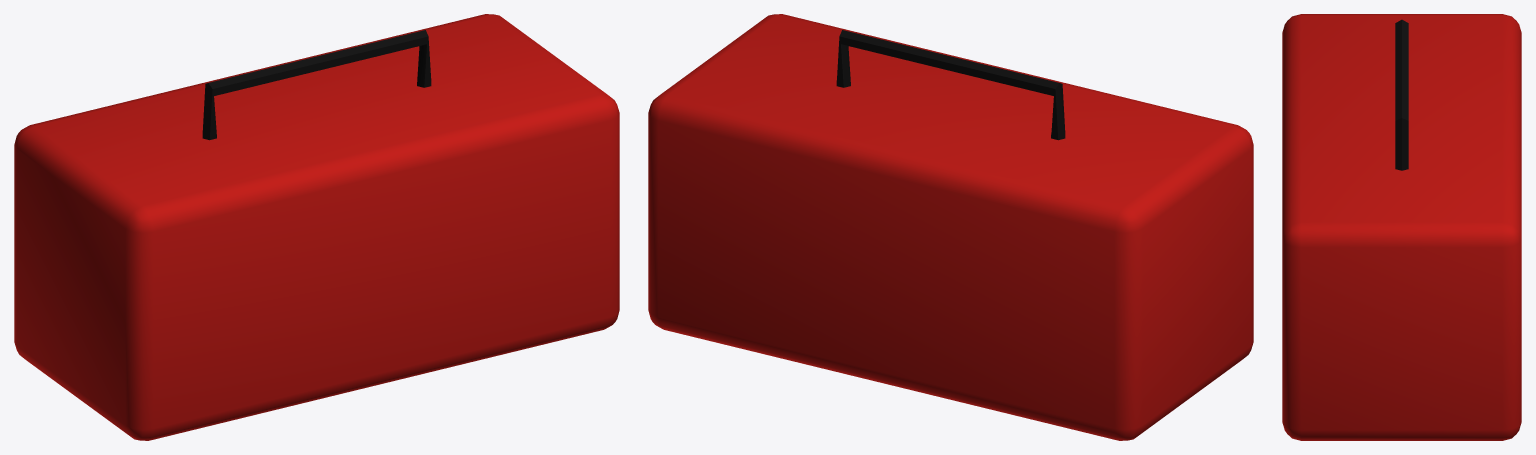
Rendered from plant.tool.toolbox.glb.
The picture shows the model from 3 angles, left to right: view 1: azimuth 30°, elevation 25°; view 2: azimuth 150°, elevation 25°; view 3: azimuth 270°, elevation 25°; orthographic projection. The views are drawn at different scales.
Visible parts, largest first — view 1: main__plastic_red, main__plastic_black; view 2: main__plastic_red, main__plastic_black; view 3: main__plastic_red, main__plastic_black.
Part boxes in pixels (box(x1,y1,x2,y2)): main__plastic_red: box(14, 14, 619, 440); main__plastic_black: box(202, 30, 431, 140); main__plastic_red: box(648, 14, 1253, 440); main__plastic_black: box(836, 30, 1065, 140); main__plastic_red: box(1282, 14, 1521, 440); main__plastic_black: box(1395, 19, 1408, 170).
Bounding box in the file's own units: 0.55 × 0.3078 × 0.25.
